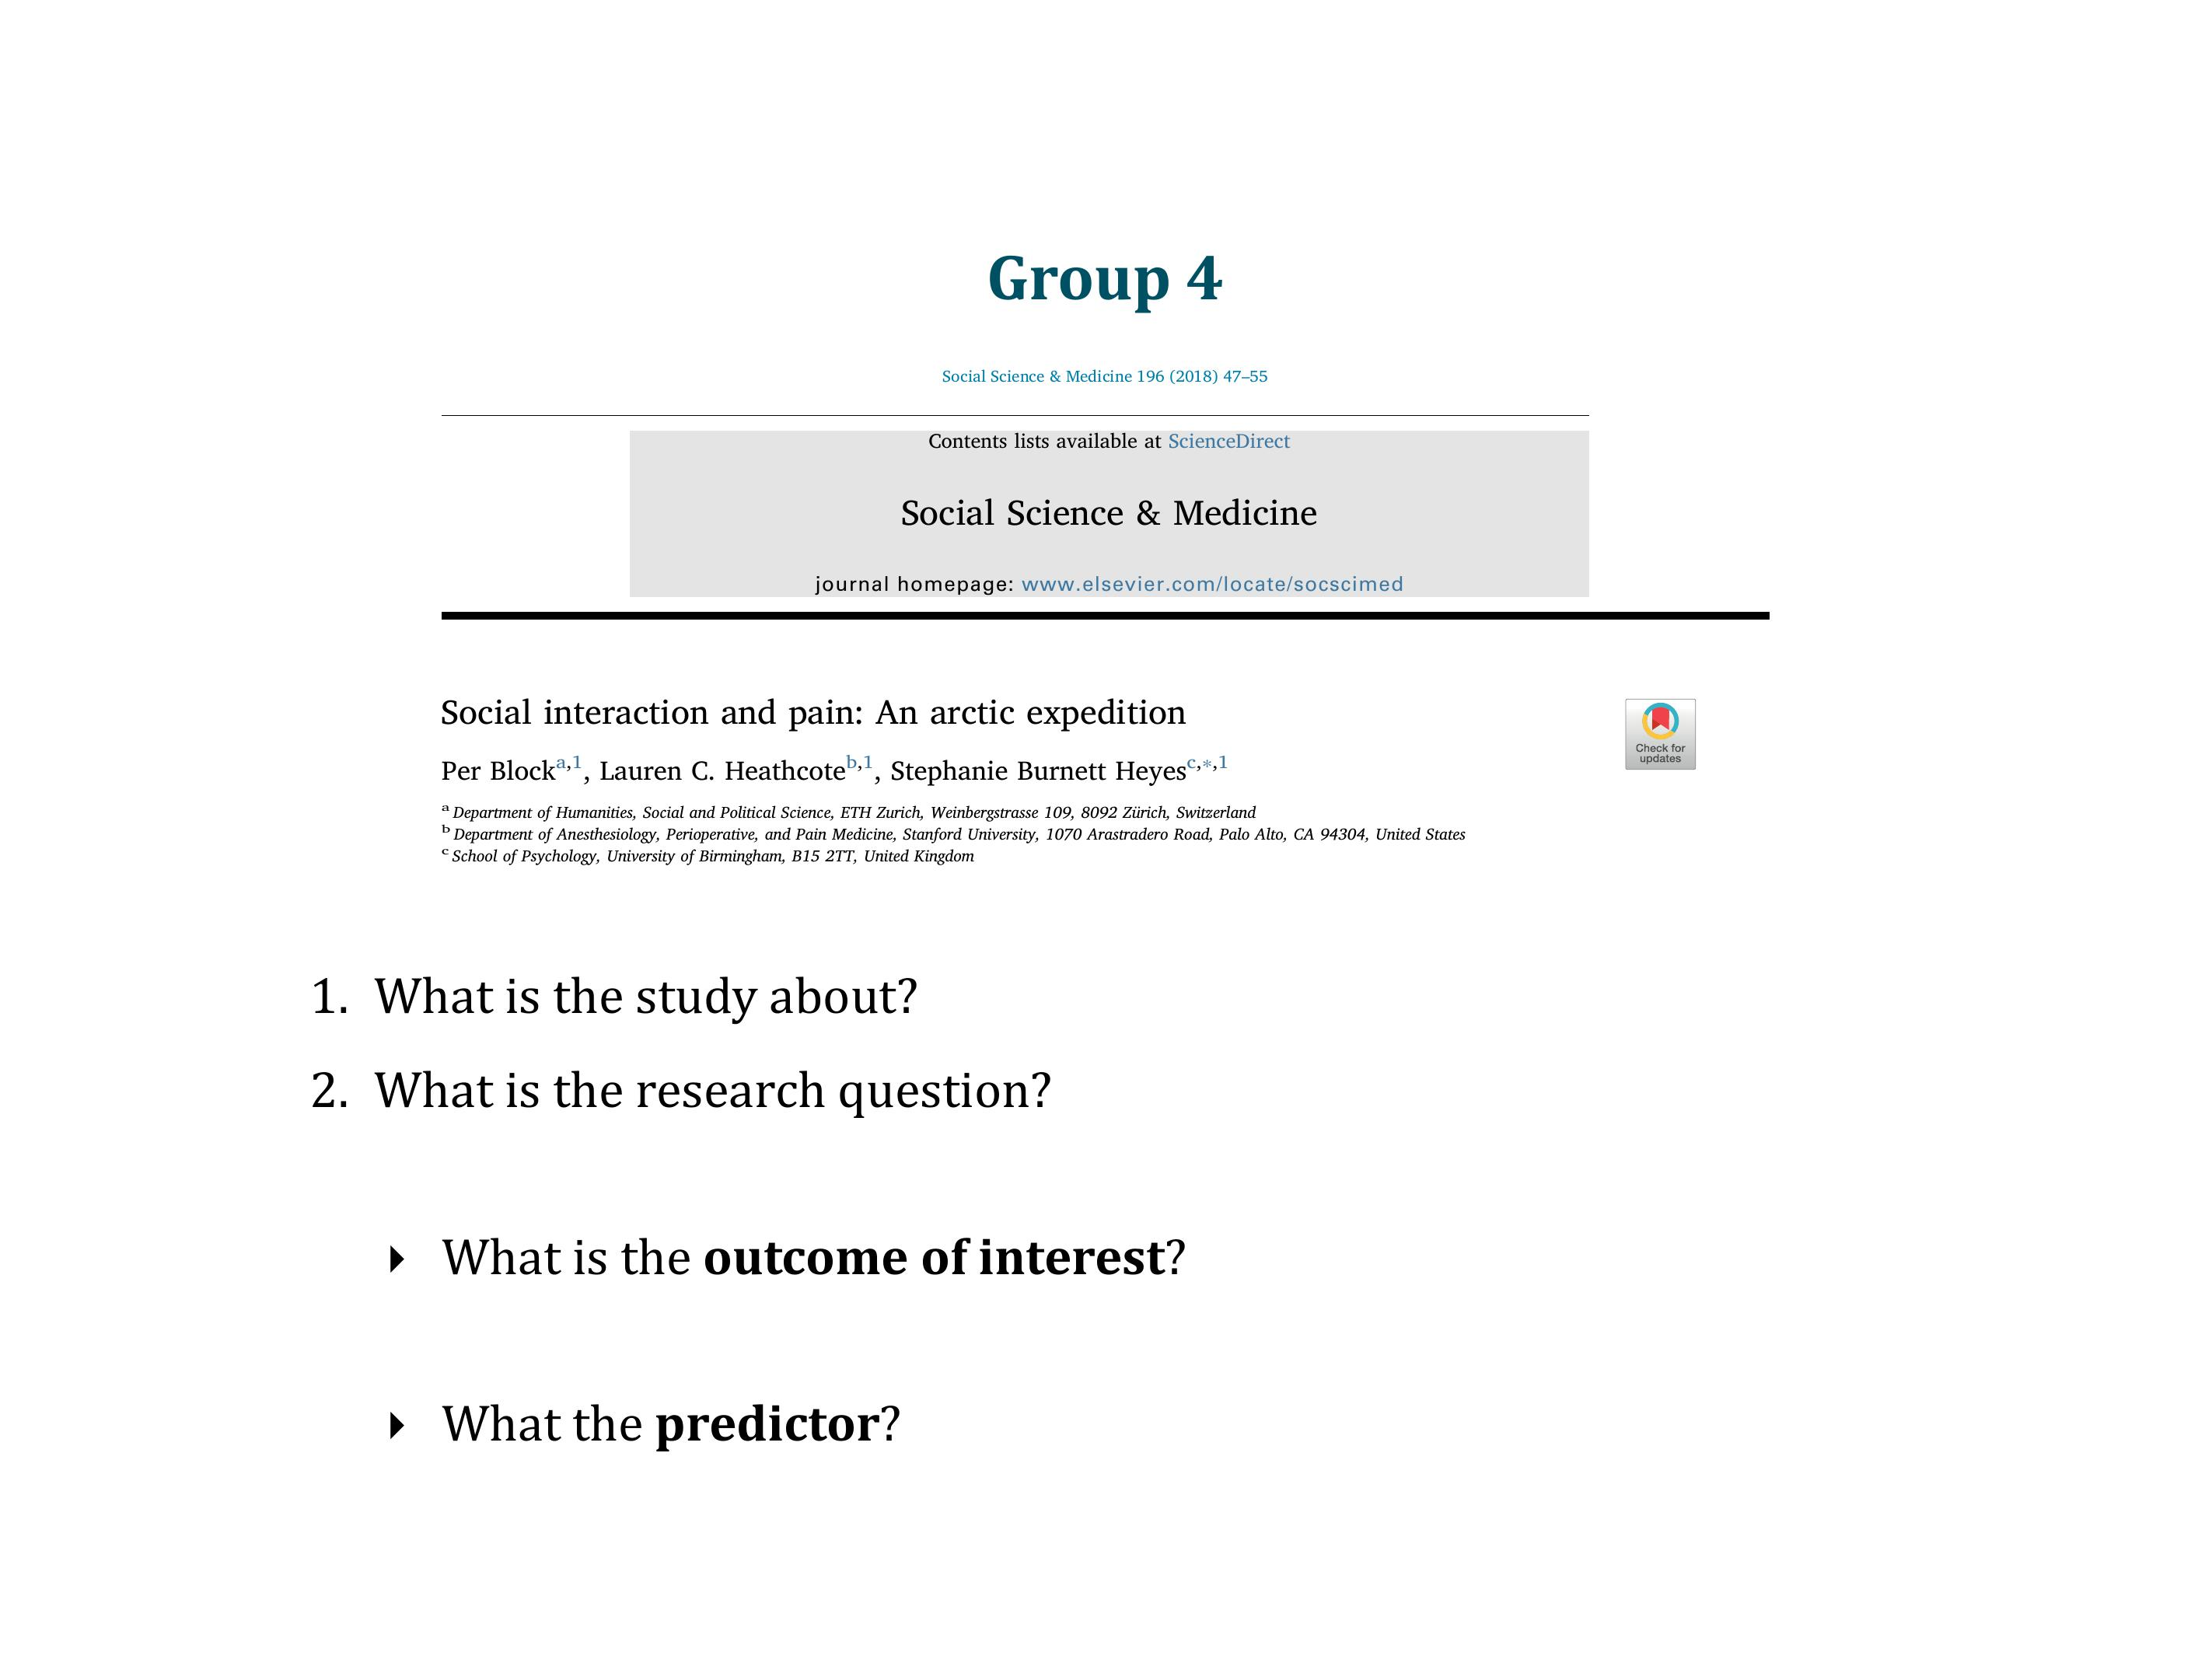Title: (980, 253, 1241, 335)
